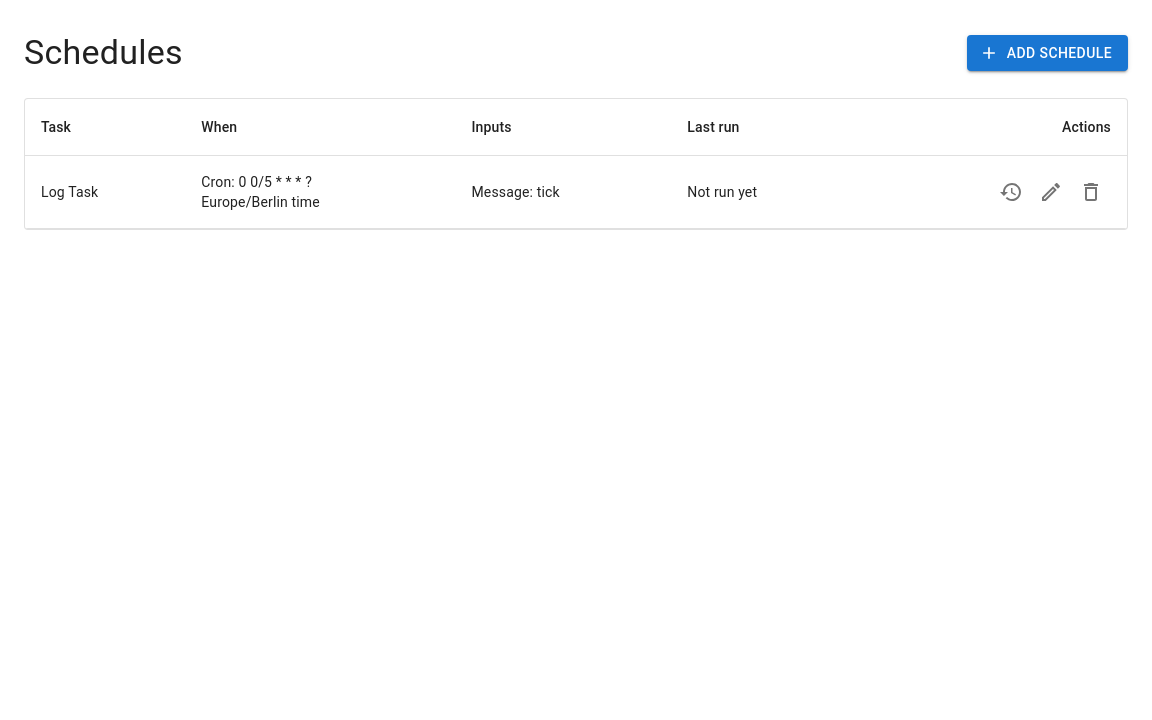
Test: time zone of a schedule › the edit form says which zone a cron expression is in
Click the button named "Edit schedule" at (1051, 192), box [1031,172,1071,212]
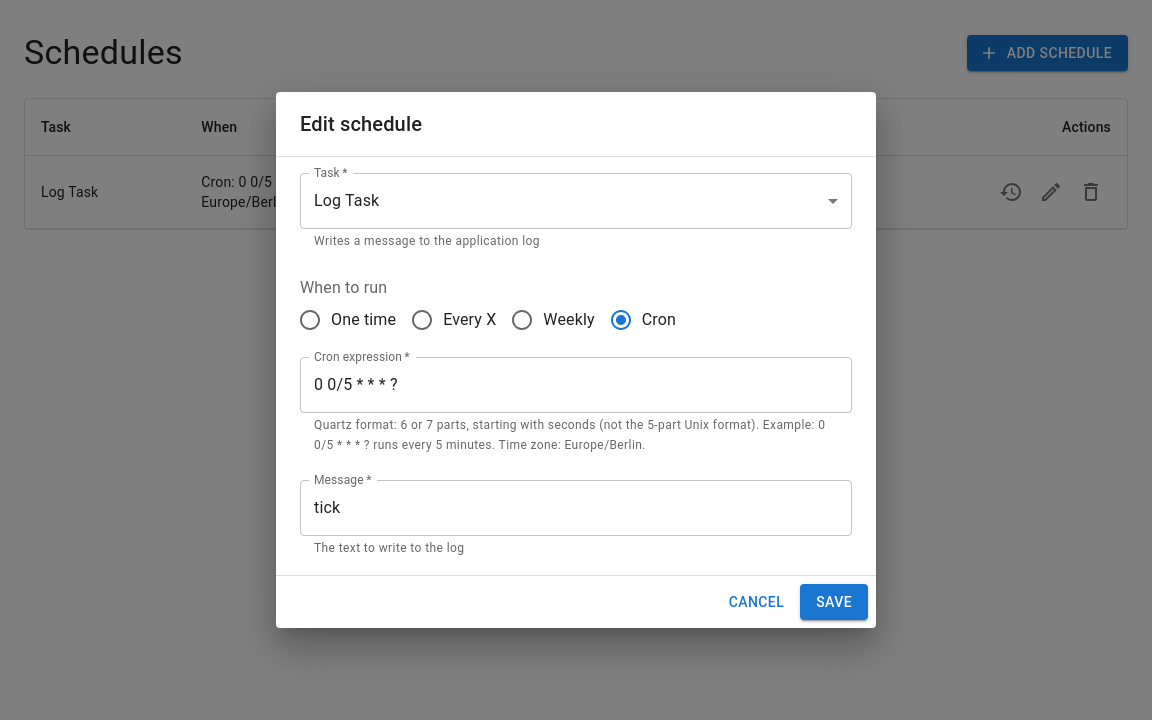
Now the dropdown labelled "Log Task" is shown, box [314,191,379,210]
